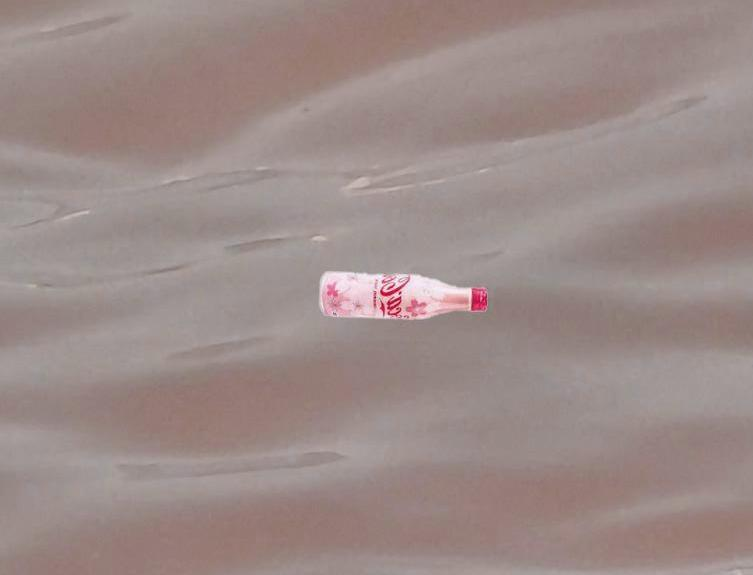Plastic: (316, 269, 494, 318)
